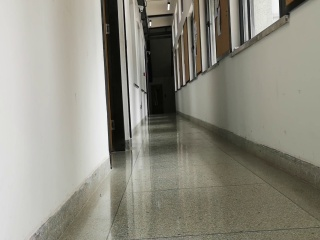room: (96, 1, 127, 166)
